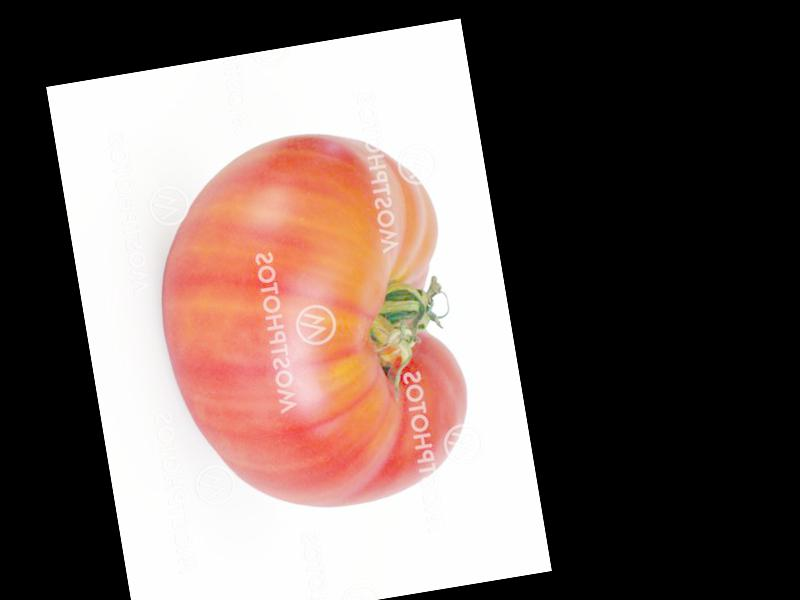Tomato: (137, 114, 482, 529)
